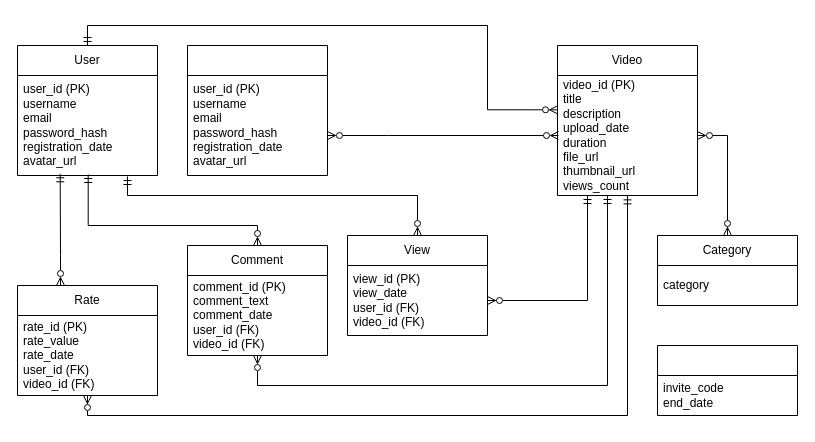
Some shapes in this 815 by 442 pixel diagram are drawn without their labels. Here are the shapes that lost their labels. From the top down, the box of each, then its label:
(186, 44, 328, 176): Admin
(656, 344, 798, 416): InviteCodes
